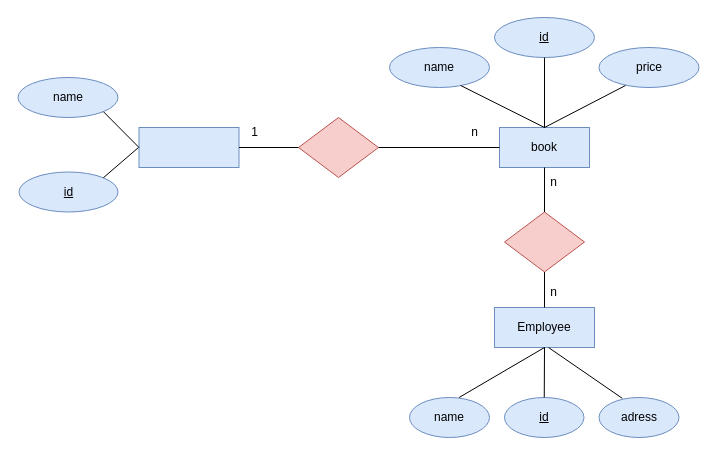
The diagram is 716 pixels wide and 455 high, and some of its shapes have lost their labels. The box of each missing label's shape, as (x1, y1, x2, y2) in pixels:
author: (138, 126, 239, 168)
manage: (504, 211, 584, 272)
write: (298, 116, 378, 178)
